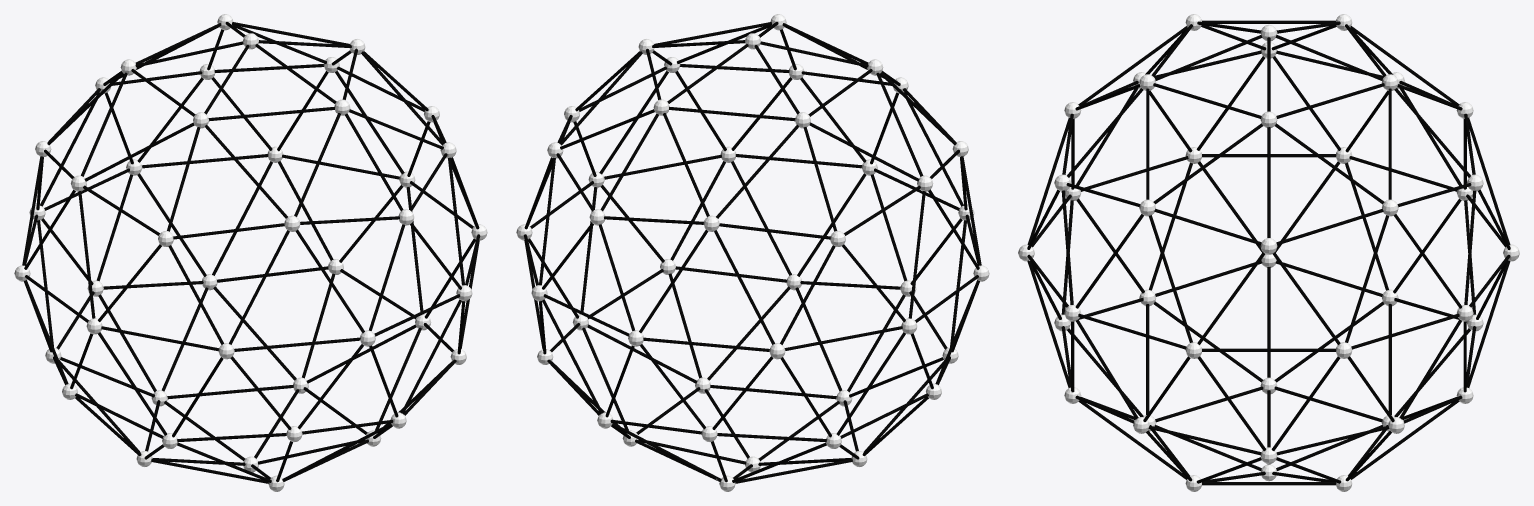
The model's file is Fireball VFX Icosphere.fbx.
3 views of the same model, side by side, from view 1: azimuth 30°, elevation 25°; view 2: azimuth 150°, elevation 25°; view 3: azimuth 270°, elevation 25° (orthographic). The views are drawn at different scales.
Parts seen in each view (by area): view 1: Ico Sphere - Geometry Nodes; view 2: Ico Sphere - Geometry Nodes; view 3: Ico Sphere - Geometry Nodes.
Boxes of the visible parts, x1,y1,x2,y2 form: Ico Sphere - Geometry Nodes: (14, 14, 487, 491); Ico Sphere - Geometry Nodes: (516, 14, 989, 491); Ico Sphere - Geometry Nodes: (1018, 14, 1519, 491).
Bounding box in the file's own units: 1.97 × 2.07 × 2.07.
1 material, 1 textured.
